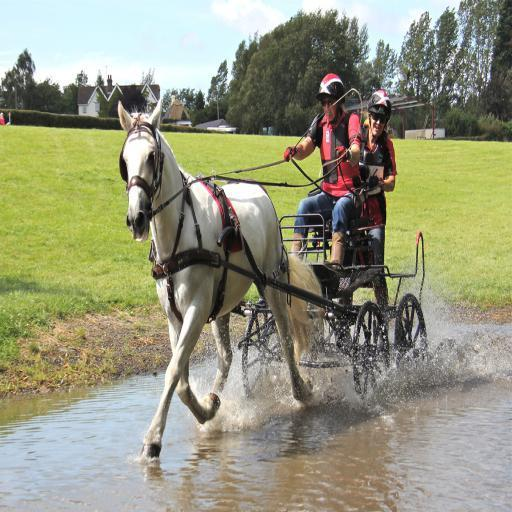horse: (119, 98, 326, 461)
